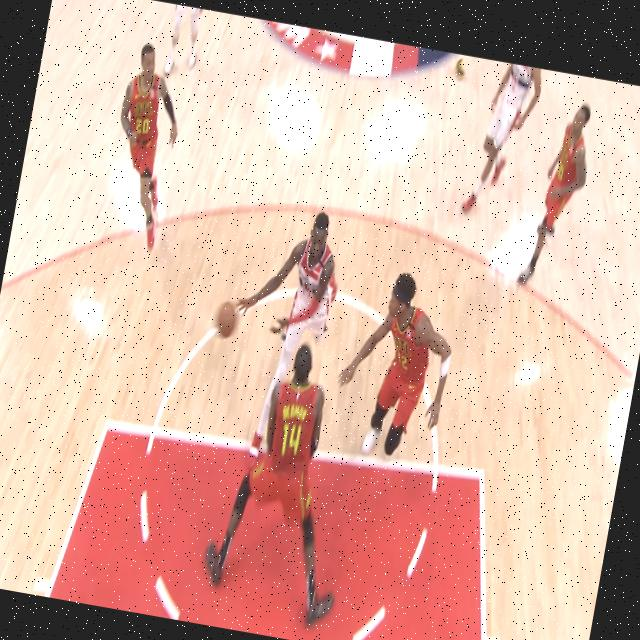no foul: (124, 189, 485, 640)
